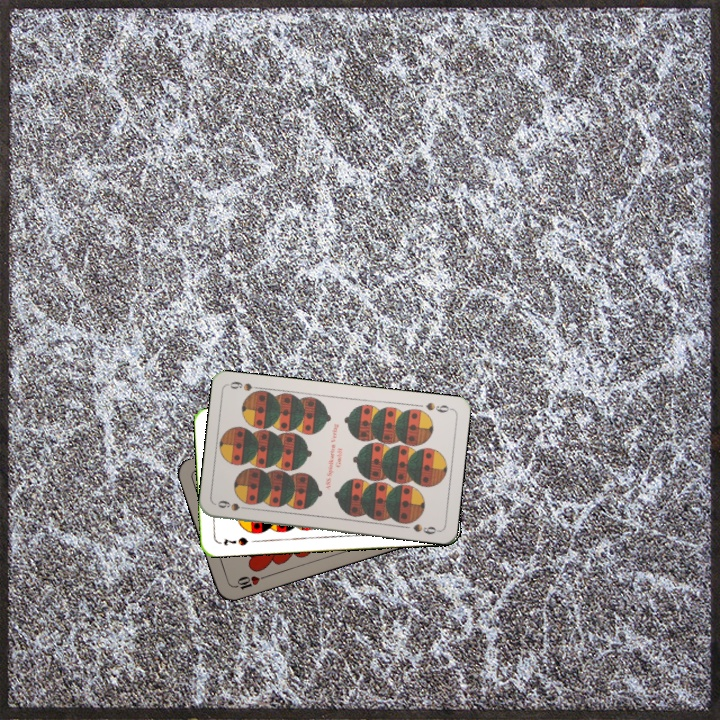H10: (228, 572, 268, 593)
S7: (219, 533, 250, 548)
S9: (213, 496, 254, 513), (422, 398, 454, 415)
